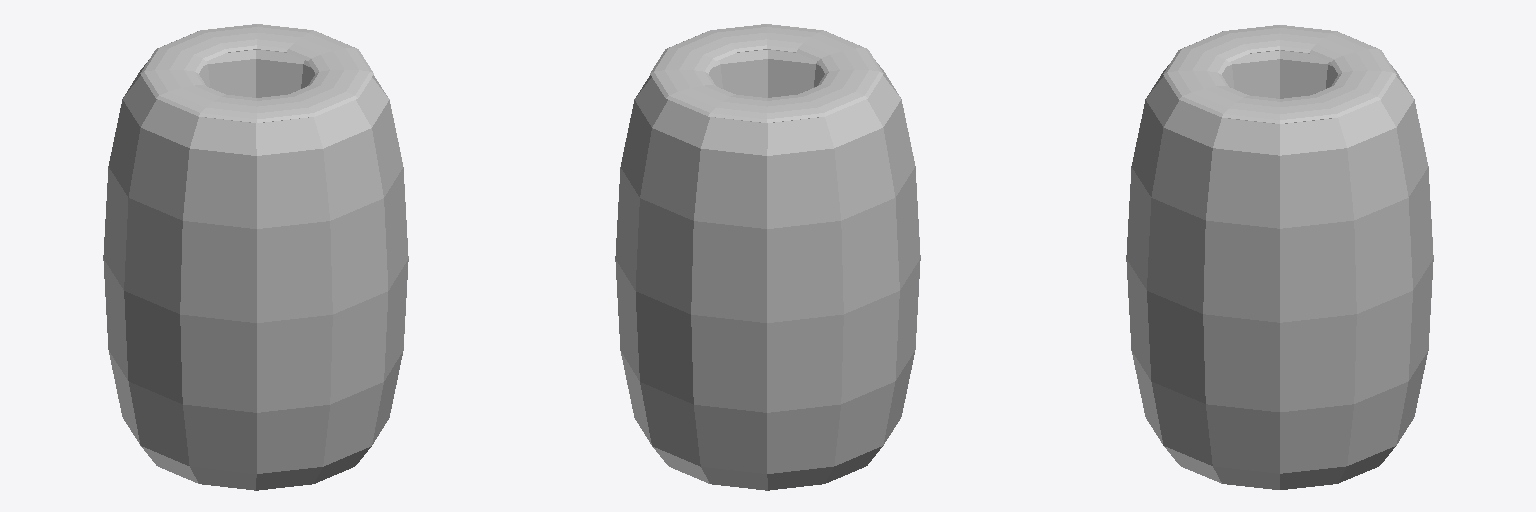
The model's file is EnginePanel.obj.
The picture shows the model from 3 angles: view 1: azimuth 30°, elevation 25°; view 2: azimuth 150°, elevation 25°; view 3: azimuth 270°, elevation 25°; orthographic projection.
Parts seen in each view (by area): view 1: group[number redacted]; view 2: group[number redacted]; view 3: group[number redacted].
Boxes of the visible parts, x1=… form: group[number redacted]: x1=103, y1=24, x2=408, y2=490; group[number redacted]: x1=615, y1=24, x2=920, y2=490; group[number redacted]: x1=1126, y1=25, x2=1433, y2=489.
Size of the model in its own units: 1.12 by 1.51 by 1.13.